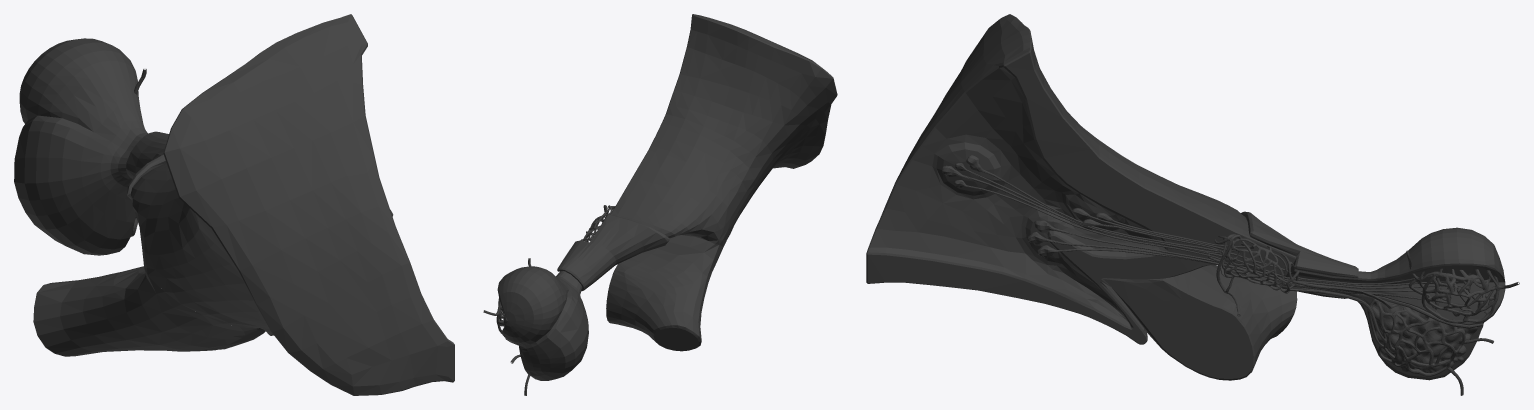
File: sharedassets78.glb
3 views of the same model, side by side, from view 1: azimuth 30°, elevation 25°; view 2: azimuth 150°, elevation 25°; view 3: azimuth 270°, elevation 25° (orthographic). The views are drawn at different scales.
Parts seen in each view (by area): view 1: 0021_Hypothalamus_hypothalamus and pituitary_, 0000_Pars distalis_hypothalamus and pituitary, 0013_Optic chiasm_hypothalamus and pituitary_, 0015_Posterior pituitary_hypothalamus and pit, 0014_Pars tuberalis_hypothalamus and pituitar; view 2: 0021_Hypothalamus_hypothalamus and pituitary_, 0013_Optic chiasm_hypothalamus and pituitary_, 0015_Posterior pituitary_hypothalamus and pit, 0014_Pars tuberalis_hypothalamus and pituitar, 0000_Pars distalis_hypothalamus and pituitary; view 3: 0021_Hypothalamus_hypothalamus and pituitary_, 0013_Optic chiasm_hypothalamus and pituitary_, 0015_Posterior pituitary_hypothalamus and pit, 0022_Hypothalamohypophyseal tract_hypothalamu, 0017_Endocrine cells_hypothalamus and pituita, 0016_Capillary plexus of the posterior pituit, 0009_Secondary capillary plexus_hypothalamus, 0014_Pars tuberalis_hypothalamus and pituitar, 0012_Paraventricular nucleus_hypothalamus and, 0018_Primary capillary plexus_hypothalamus an, 0005_Infundibulum_hypothalamus and pituitary_, 0002_Axons_hypothalamus and pituitary_305101 (+5 smaller).
Boxes of the visible parts, x1=… form: 0021_Hypothalamus_hypothalamus and pituitary_: x1=130, y1=14, x2=454, y2=395; 0000_Pars distalis_hypothalamus and pituitary: x1=14, y1=115, x2=135, y2=255; 0013_Optic chiasm_hypothalamus and pituitary_: x1=33, y1=266, x2=265, y2=356; 0015_Posterior pituitary_hypothalamus and pit: x1=19, y1=38, x2=147, y2=151; 0014_Pars tuberalis_hypothalamus and pituitar: x1=126, y1=131, x2=168, y2=200; 0021_Hypothalamus_hypothalamus and pituitary_: x1=610, y1=14, x2=837, y2=240; 0013_Optic chiasm_hypothalamus and pituitary_: x1=606, y1=235, x2=726, y2=351; 0015_Posterior pituitary_hypothalamus and pit: x1=497, y1=266, x2=574, y2=345; 0014_Pars tuberalis_hypothalamus and pituitar: x1=557, y1=214, x2=669, y2=291; 0000_Pars distalis_hypothalamus and pituitary: x1=519, y1=278, x2=588, y2=380; 0021_Hypothalamus_hypothalamus and pituitary_: x1=866, y1=14, x2=1250, y2=344; 0013_Optic chiasm_hypothalamus and pituitary_: x1=1101, y1=265, x2=1297, y2=380; 0015_Posterior pituitary_hypothalamus and pit: x1=1349, y1=227, x2=1505, y2=325; 0022_Hypothalamohypophyseal tract_hypothalamu: x1=959, y1=168, x2=1466, y2=299; 0017_Endocrine cells_hypothalamus and pituita: x1=1371, y1=298, x2=1477, y2=373; 0016_Capillary plexus of the posterior pituit: x1=1408, y1=268, x2=1500, y2=323; 0009_Secondary capillary plexus_hypothalamus: x1=1367, y1=298, x2=1465, y2=376; 0014_Pars tuberalis_hypothalamus and pituitar: x1=1225, y1=211, x2=1358, y2=298; 0012_Paraventricular nucleus_hypothalamus and: x1=936, y1=142, x2=1000, y2=195; 0018_Primary capillary plexus_hypothalamus an: x1=1208, y1=234, x2=1299, y2=293; 0005_Infundibulum_hypothalamus and pituitary_: x1=1229, y1=237, x2=1353, y2=294; 0002_Axons_hypothalamus and pituitary_305101: x1=965, y1=169, x2=1230, y2=264.
Size of the model in its own units: 0.1403 by 0.2278 by 0.3929.
1 material, 1 textured.
